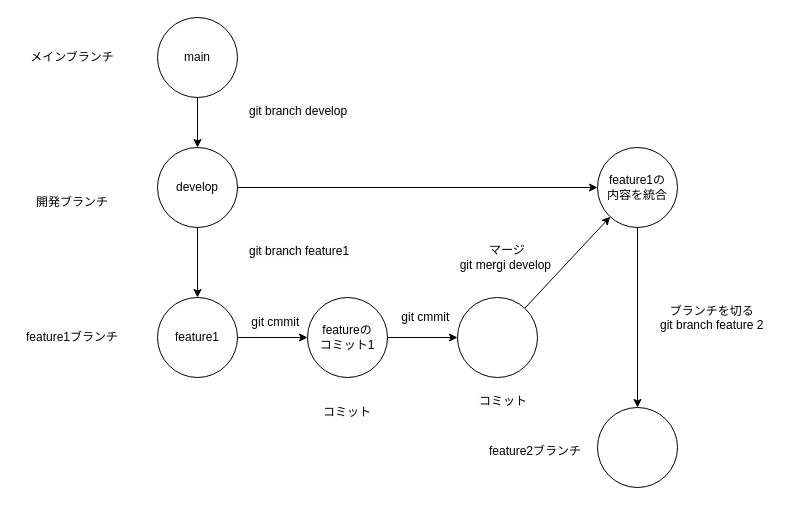
Some shapes in this 805 by 505 pixel diagram are drawn without their labels. Each missing label, with the centre of its shape:
feature2: the point at 637,447
featureの コミット2: the point at 497,337
